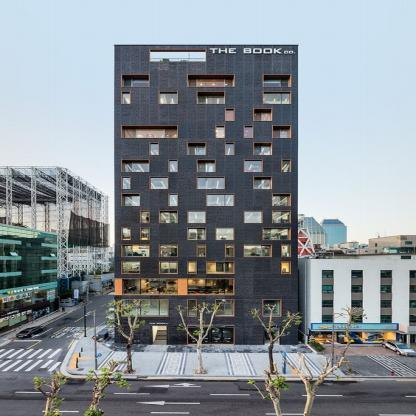Balcony: (150, 59, 206, 62)
Building Outline: (113, 44, 299, 345)
Deco: (210, 48, 297, 54), (148, 322, 168, 324)
Door: (264, 327, 280, 345), (152, 326, 167, 345)
Facade: (113, 44, 299, 345)
Floor Slab: (114, 87, 298, 90), (114, 138, 298, 141), (114, 172, 298, 175), (114, 223, 298, 226), (114, 241, 298, 244), (114, 275, 298, 278), (114, 296, 299, 298), (114, 317, 298, 319), (114, 62, 298, 64), (114, 105, 298, 107), (114, 122, 298, 124), (114, 156, 298, 158), (114, 190, 298, 192), (114, 207, 298, 209), (114, 258, 298, 260)
Glass Wall: (122, 279, 178, 295), (187, 279, 233, 295), (123, 300, 168, 316)
Shop: (188, 325, 235, 345)
Window: (121, 125, 178, 138), (150, 49, 207, 61), (188, 74, 235, 87), (124, 128, 177, 138), (264, 74, 292, 87), (188, 78, 232, 86), (122, 159, 149, 172), (122, 74, 149, 87), (264, 92, 292, 104), (197, 92, 225, 104), (263, 228, 291, 240), (244, 245, 271, 256), (122, 245, 149, 256), (207, 262, 233, 273), (263, 229, 289, 240), (207, 195, 233, 206), (198, 178, 224, 189), (216, 300, 233, 316), (264, 300, 281, 316), (122, 162, 149, 172), (264, 94, 290, 104), (198, 94, 224, 104), (273, 125, 291, 138), (159, 92, 178, 104), (187, 143, 206, 155), (198, 159, 215, 172), (273, 194, 291, 206), (122, 194, 139, 206), (254, 143, 271, 155), (254, 177, 271, 189), (264, 78, 288, 86), (124, 78, 148, 86), (123, 262, 140, 273), (160, 262, 177, 273), (160, 245, 177, 256), (151, 178, 168, 189), (245, 161, 262, 172), (189, 229, 205, 240), (217, 229, 233, 240), (273, 212, 289, 223), (245, 212, 261, 223), (189, 212, 205, 223), (161, 212, 177, 223), (273, 195, 289, 206), (198, 162, 215, 172), (254, 145, 271, 155), (254, 111, 271, 121), (273, 127, 288, 138), (124, 196, 140, 206), (254, 179, 270, 189), (160, 94, 176, 104), (189, 146, 206, 155), (188, 300, 196, 316), (150, 143, 159, 155), (216, 125, 224, 138), (245, 125, 253, 138), (169, 159, 177, 172), (122, 92, 130, 104), (226, 143, 234, 155), (188, 262, 196, 273), (282, 262, 290, 273), (282, 245, 290, 256), (122, 229, 130, 240), (123, 178, 131, 189), (169, 161, 177, 172), (282, 161, 290, 172), (150, 144, 158, 155), (226, 111, 234, 121), (226, 245, 233, 256), (198, 245, 205, 256), (141, 229, 148, 240), (142, 212, 149, 223), (170, 195, 177, 206), (217, 127, 224, 138), (245, 127, 252, 138), (226, 145, 233, 155), (123, 94, 129, 104)
